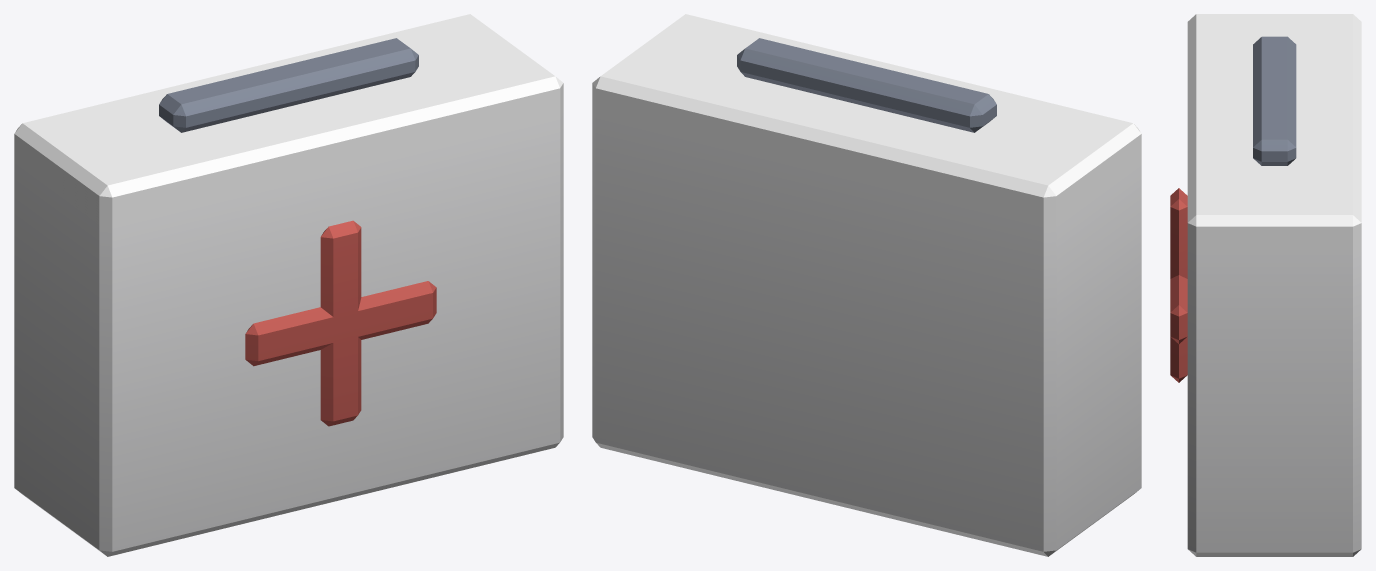
Rendered from first_aid_kit.glb.
3 views of the same model, side by side, from view 1: azimuth 30°, elevation 25°; view 2: azimuth 150°, elevation 25°; view 3: azimuth 270°, elevation 25° (orthographic). The views are drawn at different scales.
Visible parts, largest first — view 1: first_aid_kit; view 2: first_aid_kit; view 3: first_aid_kit.
Part boxes in pixels (x1,y1,x2,y2): first_aid_kit: (14, 14, 563, 556); first_aid_kit: (592, 14, 1141, 556); first_aid_kit: (1170, 14, 1361, 556).
Bounding box in the file's own units: 0.34 × 0.28 × 0.132.
1 material, 1 textured.
